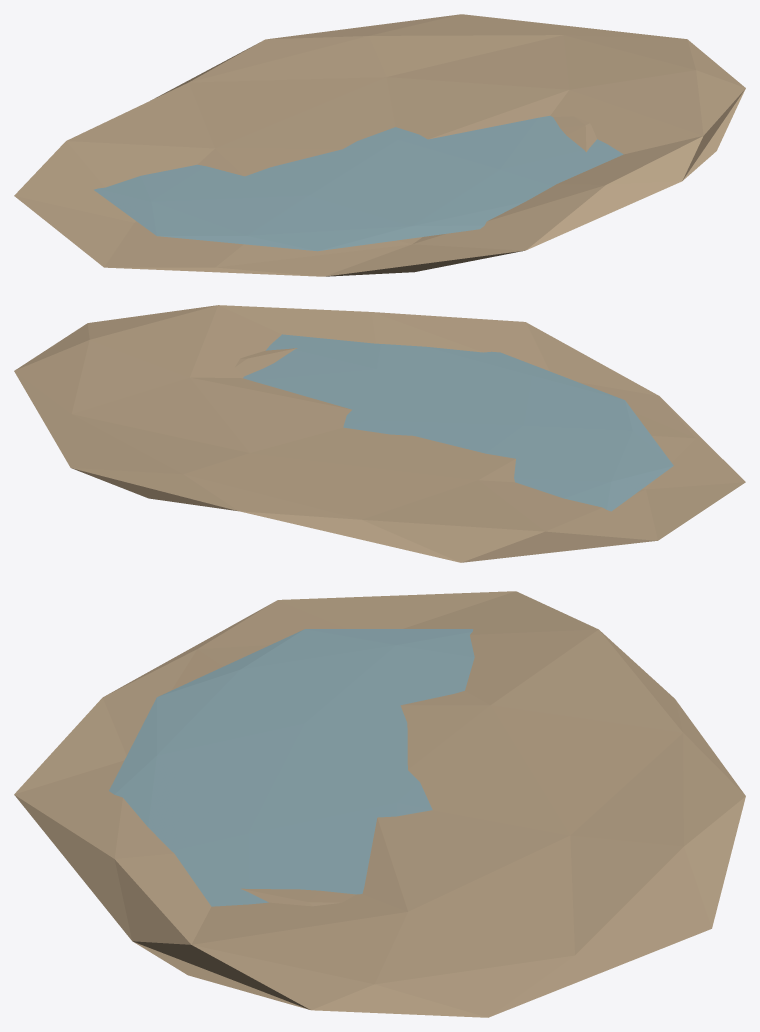
Rendered from Puddle.fbx.
The picture shows the model from 3 angles, top to bottom: view 1: azimuth 30°, elevation 25°; view 2: azimuth 150°, elevation 25°; view 3: azimuth 270°, elevation 25°; orthographic projection. The views are drawn at different scales.
Visible parts, largest first — view 1: Puddle_Mesh; view 2: Puddle_Mesh; view 3: Puddle_Mesh.
Boxes of the visible parts, x1,y1,x2,y2 form: Puddle_Mesh: (14,14,745,276); Puddle_Mesh: (14,305,745,562); Puddle_Mesh: (14,591,745,1017).
Size of the model in its own units: 3.44 by 0.1308 by 2.47.
